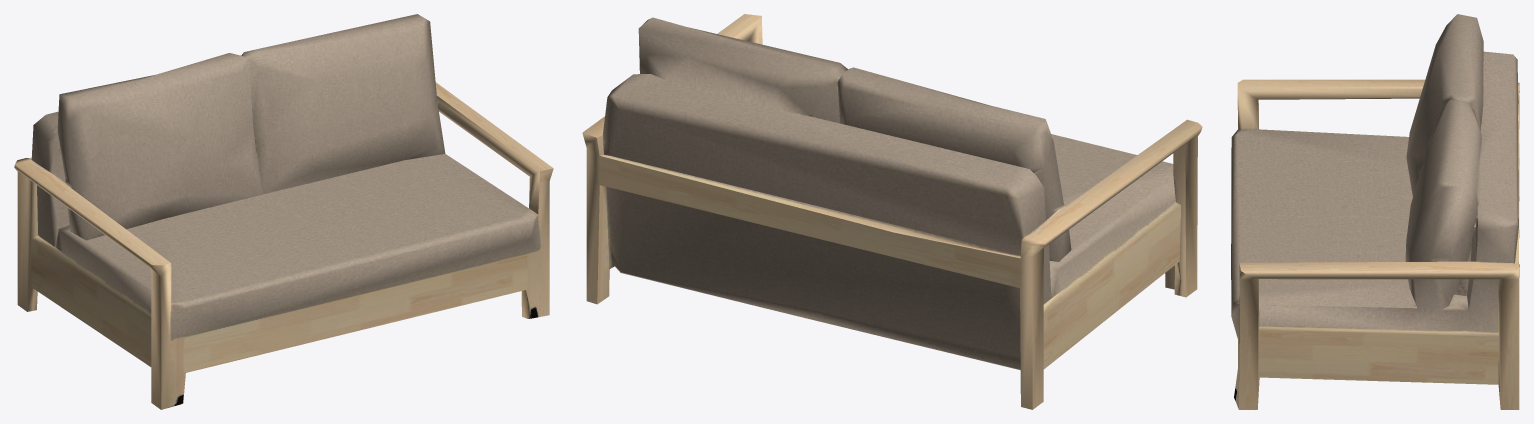
File: 05 - TORNSBORG 2-seat sofa-bed - Naggen beigepine.glb
The picture shows the model from 3 angles, left to right: view 1: azimuth 30°, elevation 25°; view 2: azimuth 150°, elevation 25°; view 3: azimuth 270°, elevation 25°; orthographic projection. The views are drawn at different scales.
Parts seen in each view (by area): view 1: ASY_ART_90584658_S01_NV01; view 2: ASY_ART_90584658_S01_NV01; view 3: ASY_ART_90584658_S01_NV01.
Boxes of the visible parts, x1,y1,x2,y2 form: ASY_ART_90584658_S01_NV01: (14,14,553,409); ASY_ART_90584658_S01_NV01: (582,14,1202,409); ASY_ART_90584658_S01_NV01: (1231,14,1519,409).
Size of the model in its own units: 1.54 by 0.8306 by 0.9768.
1 material, 1 textured.
